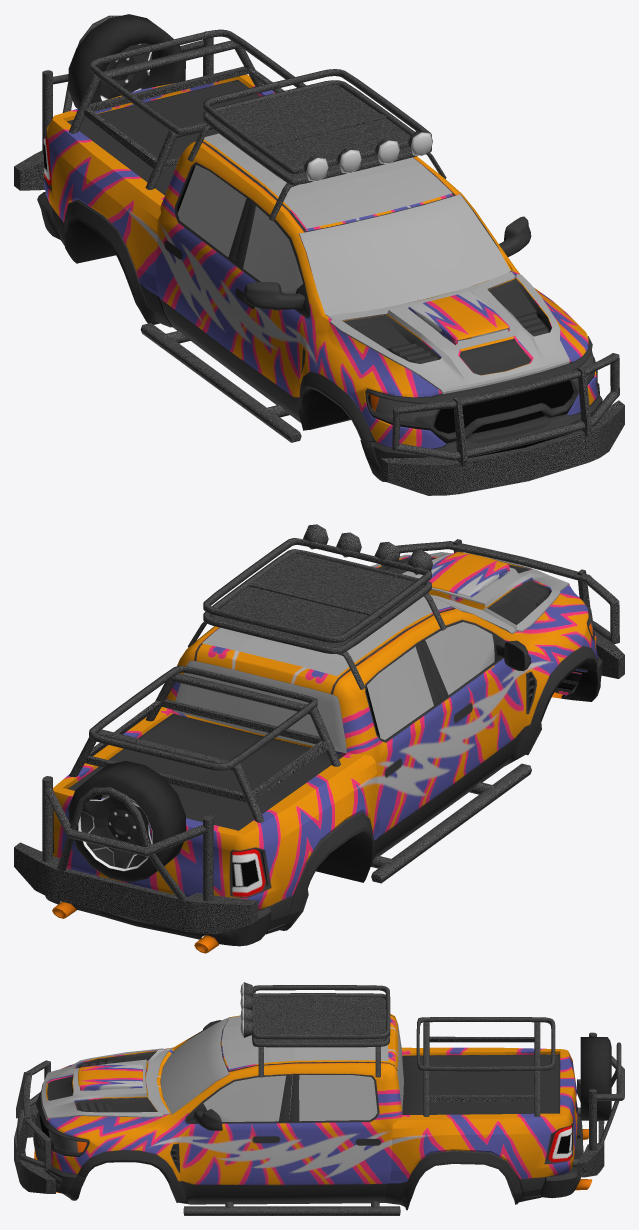
Rendered from Dodge_new.fbx.
The picture shows the model from 3 angles, top to bottom: view 1: azimuth 30°, elevation 25°; view 2: azimuth 150°, elevation 25°; view 3: azimuth 270°, elevation 25°; orthographic projection. The views are drawn at different scales.
Visible parts, largest first — view 1: BSurfaceMesh.014, pasted__guard1, pasted__guard, Dodge_carbon, pasted__wheelBonus, Dodge_airintake2, bumperFront; view 2: BSurfaceMesh.014, pasted__guard1, pasted__guard, pasted__wheelBonus, Dodge_carbon, Dodge_airintake2, bumperBack, bumperFront; view 3: BSurfaceMesh.014, pasted__guard1, Dodge_carbon, pasted__guard, pasted__wheelBonus, Dodge_airintake2, bumperBack, bumperFront.
Part boxes in pixels (<box>): BSurfaceMesh.014: <box>43,74,597,458</box>; pasted__guard1: <box>69,29,446,442</box>; pasted__guard: <box>14,15,624,495</box>; Dodge_carbon: <box>204,133,569,393</box>; pasted__wheelBonus: <box>68,14,185,108</box>; Dodge_airintake2: <box>408,291,509,344</box>; bumperFront: <box>360,383,602,482</box>; BSurfaceMesh.014: <box>52,556,597,953</box>; pasted__guard1: <box>69,524,531,883</box>; pasted__guard: <box>14,539,624,934</box>; pasted__wheelBonus: <box>68,761,186,882</box>; Dodge_carbon: <box>202,552,569,676</box>; Dodge_airintake2: <box>414,552,509,597</box>; bumperBack: <box>45,896,271,946</box>; bumperFront: <box>552,655,602,701</box>; BSurfaceMesh.014: <box>35,1014,592,1210</box>; pasted__guard1: <box>183,982,555,1215</box>; Dodge_carbon: <box>40,1016,388,1120</box>; pasted__guard: <box>14,1032,624,1193</box>; pasted__wheelBonus: <box>580,1037,611,1120</box>; Dodge_airintake2: <box>78,1064,142,1090</box>; bumperBack: <box>541,1116,583,1198</box>; bumperFront: <box>33,1132,86,1200</box>.
Size of the model in its own units: 251 by 204 by 652.
